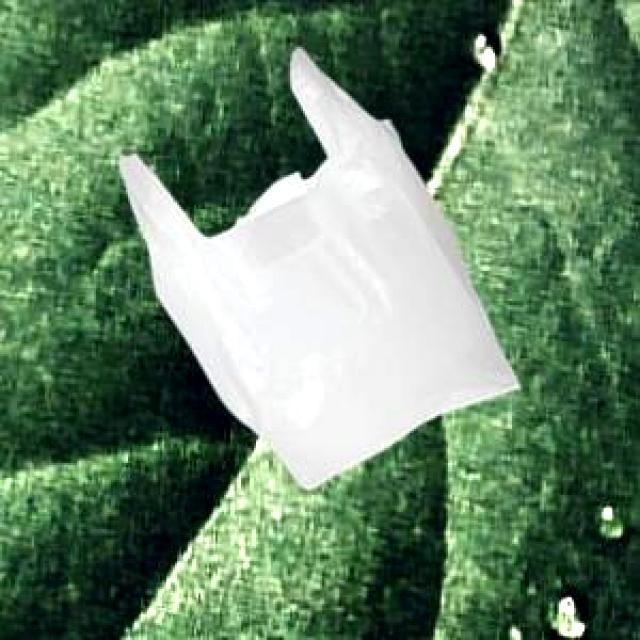Plastic_Bag: (116, 46, 518, 486)
